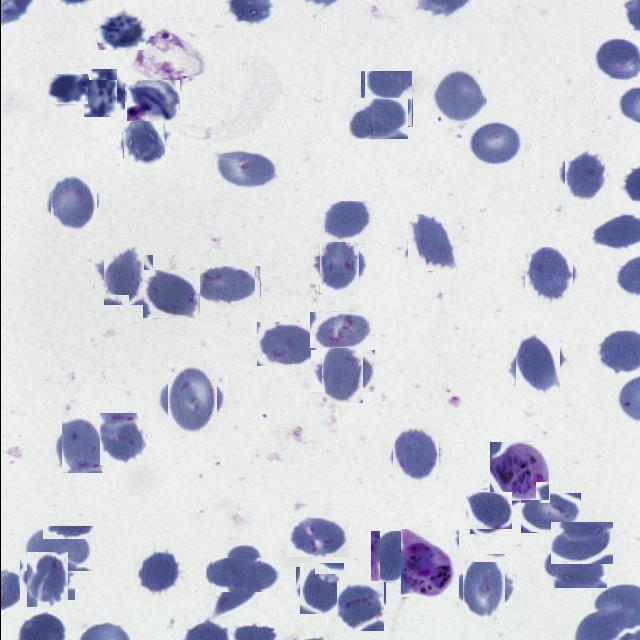red blood cell: (162, 370, 222, 430), (211, 545, 260, 617), (23, 526, 94, 572), (431, 68, 486, 124), (456, 560, 511, 615), (406, 215, 460, 269), (360, 71, 412, 127), (315, 344, 368, 398), (255, 322, 318, 366), (521, 250, 574, 302), (510, 338, 563, 390), (142, 270, 199, 318), (541, 546, 606, 588), (46, 177, 98, 229), (194, 266, 260, 306), (550, 522, 612, 564), (212, 150, 278, 189), (286, 516, 348, 557), (467, 121, 523, 166), (390, 430, 440, 480), (97, 414, 147, 464), (205, 558, 278, 592), (314, 238, 363, 288), (99, 250, 148, 300), (348, 98, 407, 139), (520, 493, 580, 533), (58, 420, 106, 470), (309, 312, 375, 348), (336, 581, 384, 630), (560, 150, 608, 198), (297, 565, 345, 613), (119, 117, 167, 165), (124, 78, 178, 120), (135, 548, 182, 596), (23, 555, 70, 603), (320, 201, 372, 243), (96, 8, 145, 50), (370, 531, 410, 582), (467, 490, 509, 532), (80, 73, 120, 114), (46, 74, 87, 104)
trophozoite: (400, 529, 458, 597), (489, 442, 548, 501)
